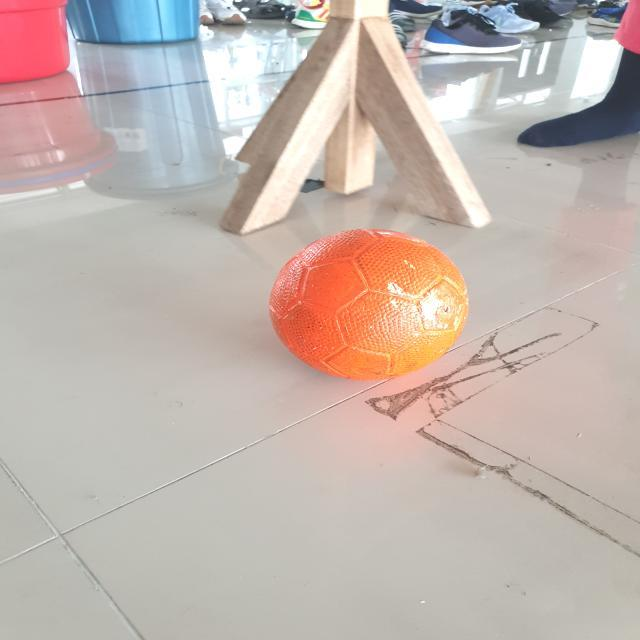bola: (260, 219, 483, 389)
